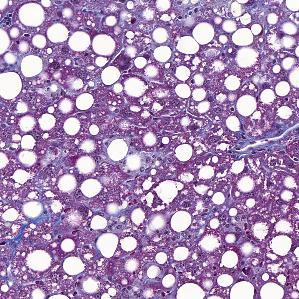fibrosis: (232, 132, 298, 161)
